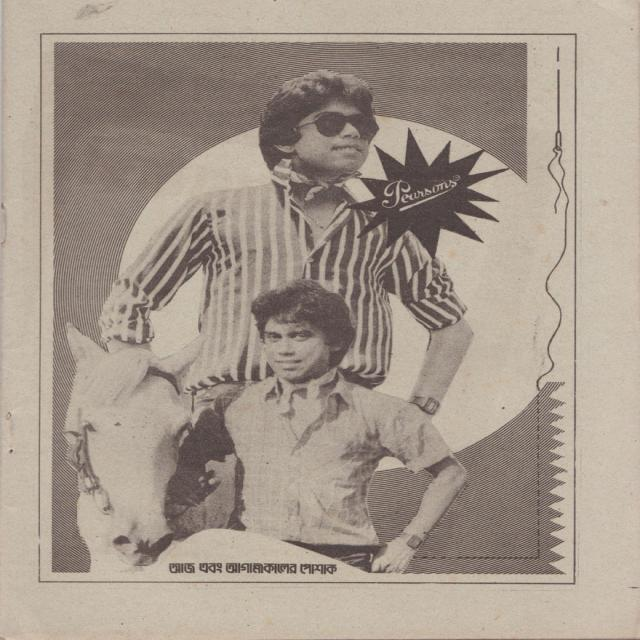advertisement: (37, 26, 589, 583)
